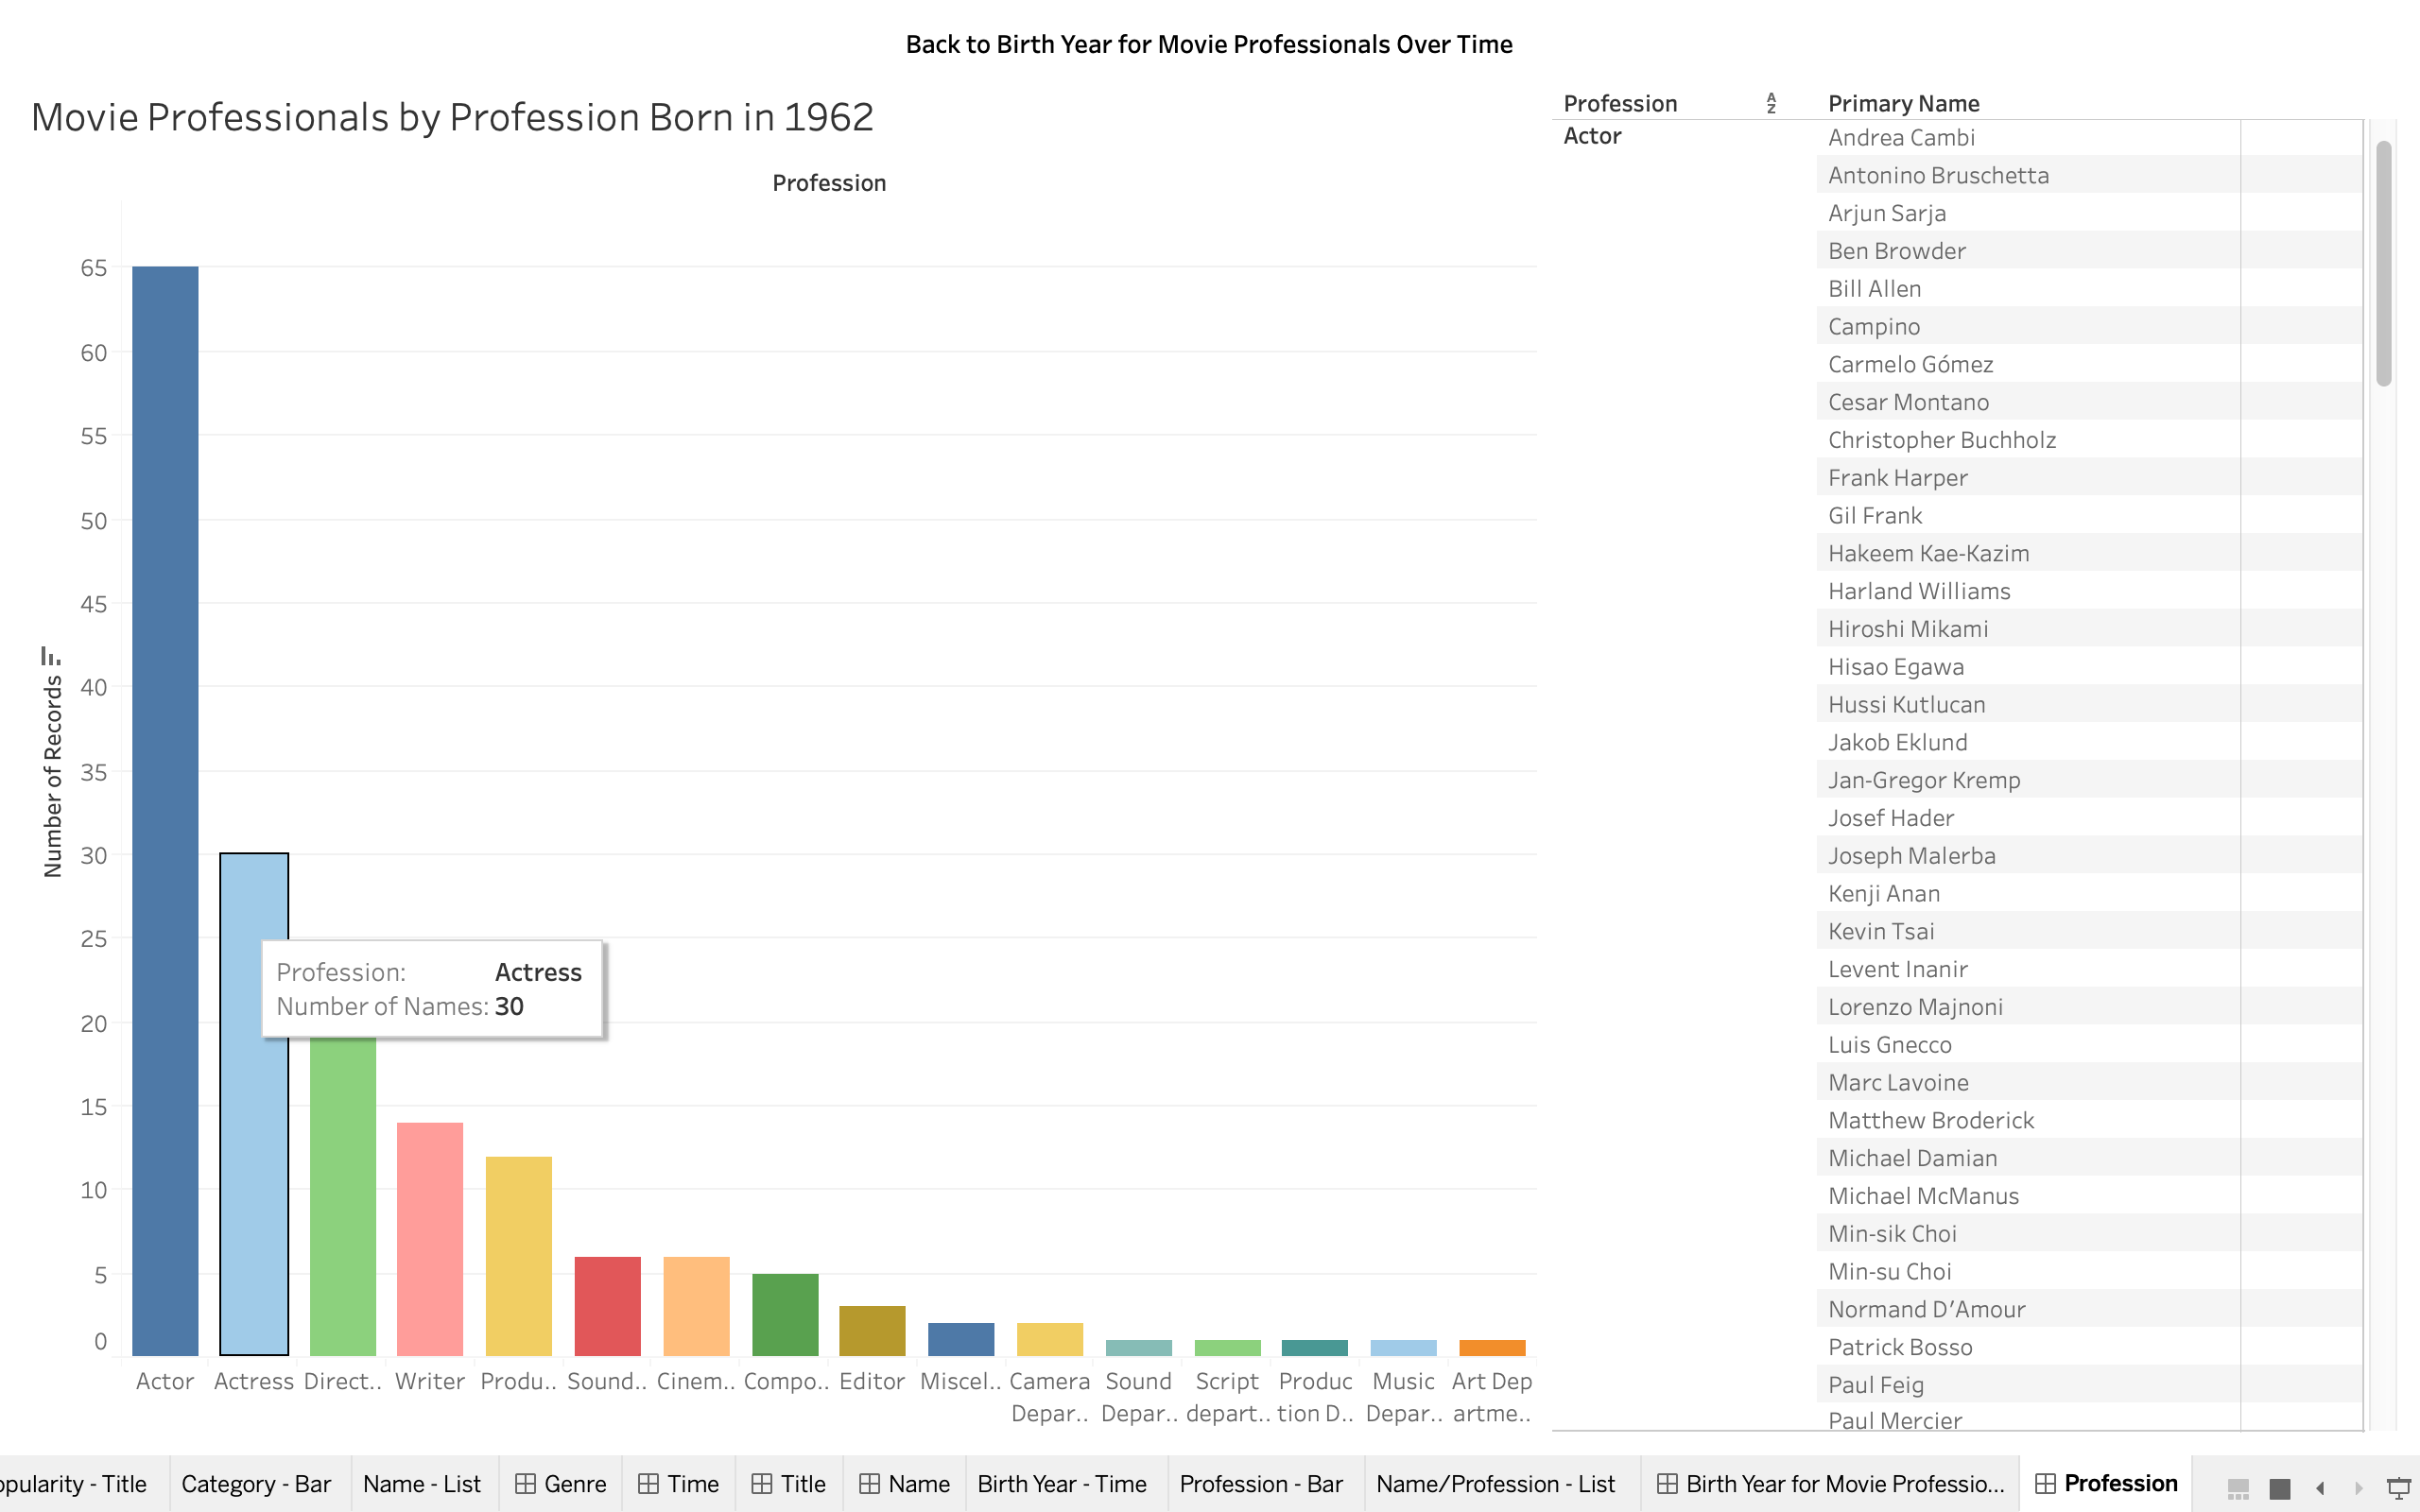

What the dashboard file says about the page in this screenshot:
{"tool":"tableau","page":{"name":"Profession","canvas":[1000,1000],"units":"permille","ordinal":3},"visuals":[{"type":"dashboard-object","box":[6.2,10.4,987.5,39.9]},{"type":"worksheet","title":"Profession - Bar","mark":"Automatic","rows":["Number of Records"],"cols":["Calculation_107804978702663680"],"box":[6.2,50.3,632.2,939.3]},{"type":"worksheet","title":"Name/Profession - List","mark":"Automatic","rows":["Calculation_107804978702663680","primary_name"],"box":[638.5,50.3,355.3,939.3]}]}

Visuals, with their boxes on the dashboard's canvas, which has no fixed pixel size, in thousandths of its width and height (x1, y1, x2, y2). These are canvas units, not pixel positions in the 2420x1512 screenshot, which may show the page scaled, cropped or inside an application window:
dashboard-object: (x1=6, y1=10, x2=994, y2=50)
"Profession - Bar" worksheet: (x1=6, y1=50, x2=638, y2=990)
"Name/Profession - List" worksheet: (x1=638, y1=50, x2=994, y2=990)
